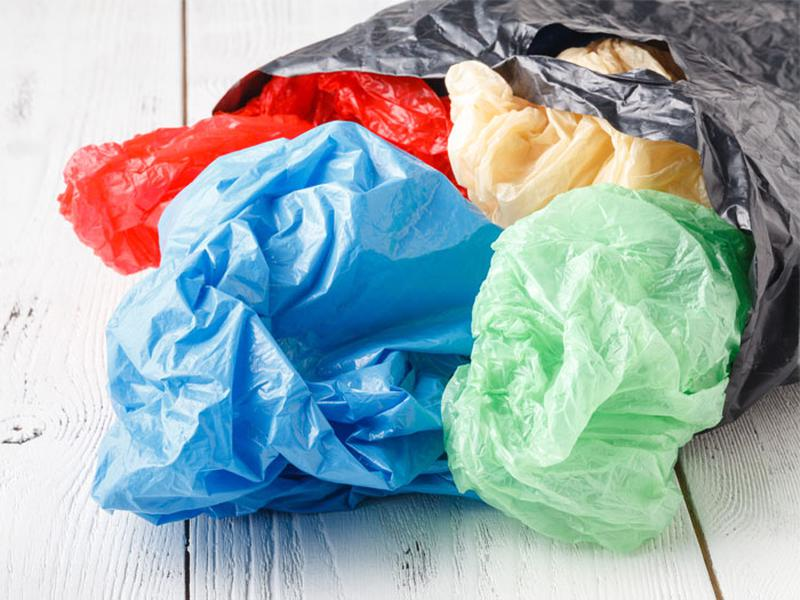plastic: (87, 120, 505, 537), (437, 180, 757, 556), (51, 44, 470, 276), (439, 38, 737, 231)
